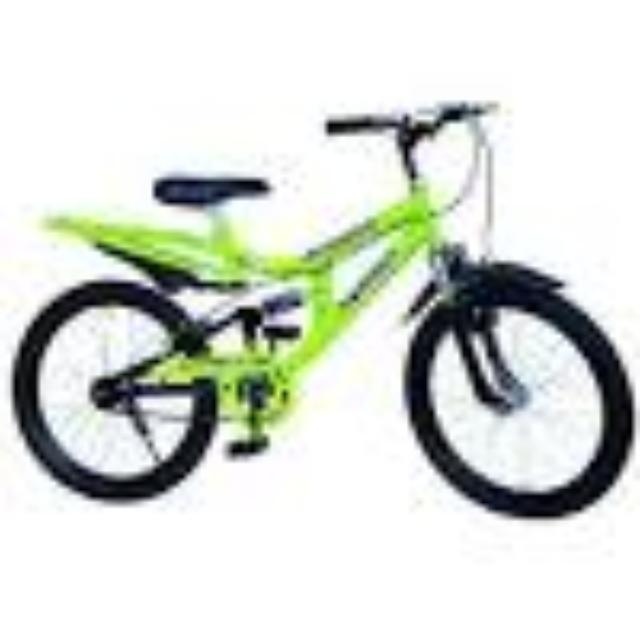obstacle: (10, 70, 640, 512)
